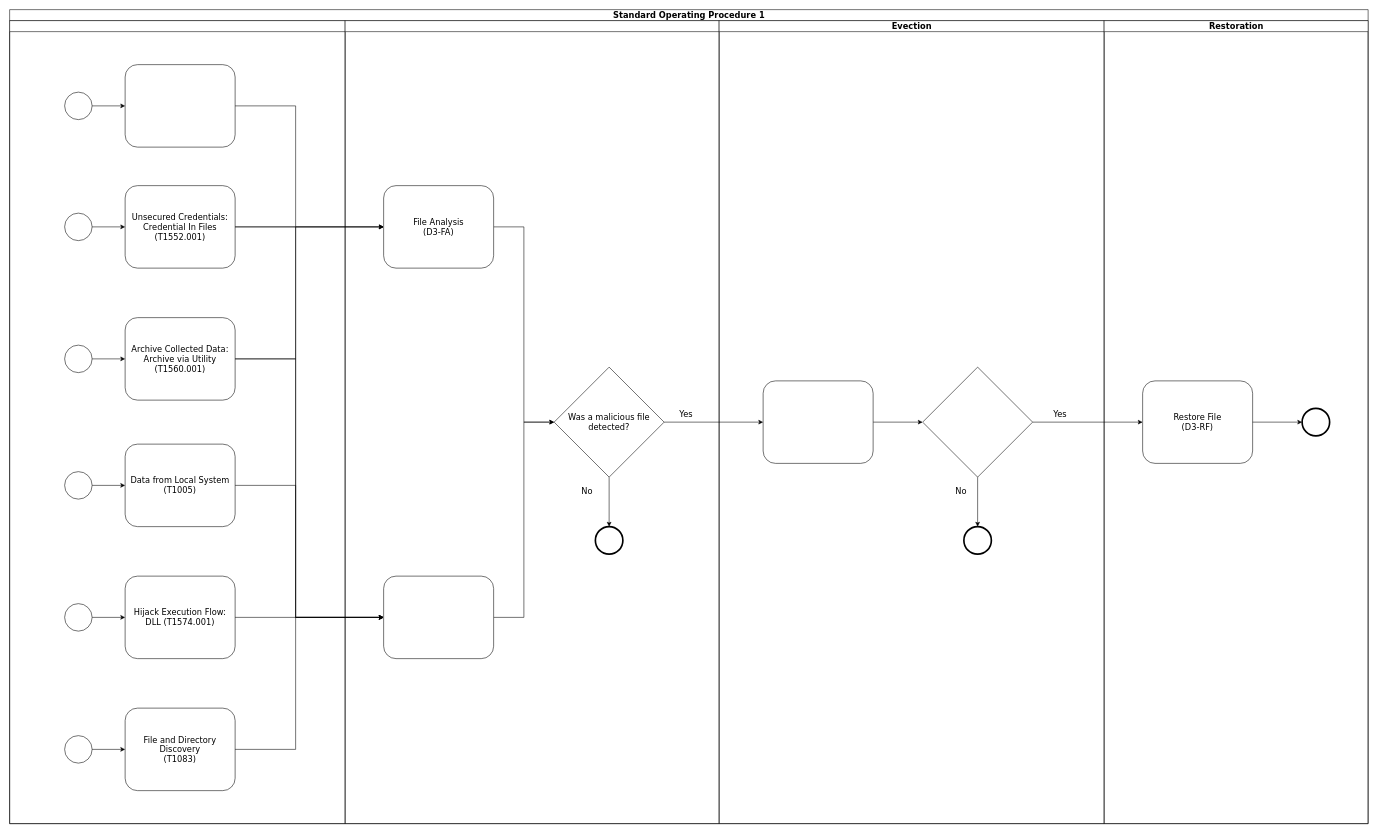
Image size: 1378x833. Some labels were removed from this diagram. The shapes that lost their labels are listed below. From the top down, each one's box as (x1, y1, x2, y2) in pixels, then its label:
(125, 64, 235, 147): Archive Collected Data (T1560)
(9, 20, 345, 824): Attack Pattern
(345, 20, 719, 824): Detection
(763, 380, 873, 463): File Eviction (D3-FEV)
(922, 367, 1033, 477): Were legitmate files destroyed?
(383, 576, 494, 659): File Integrity Monitoring (D3-FIM )
